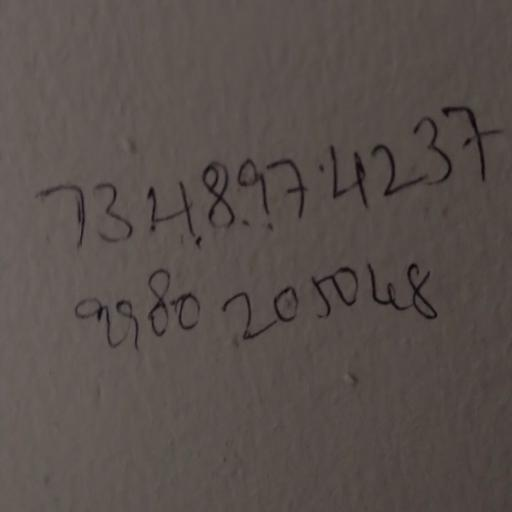stain: (30, 93, 510, 355)
